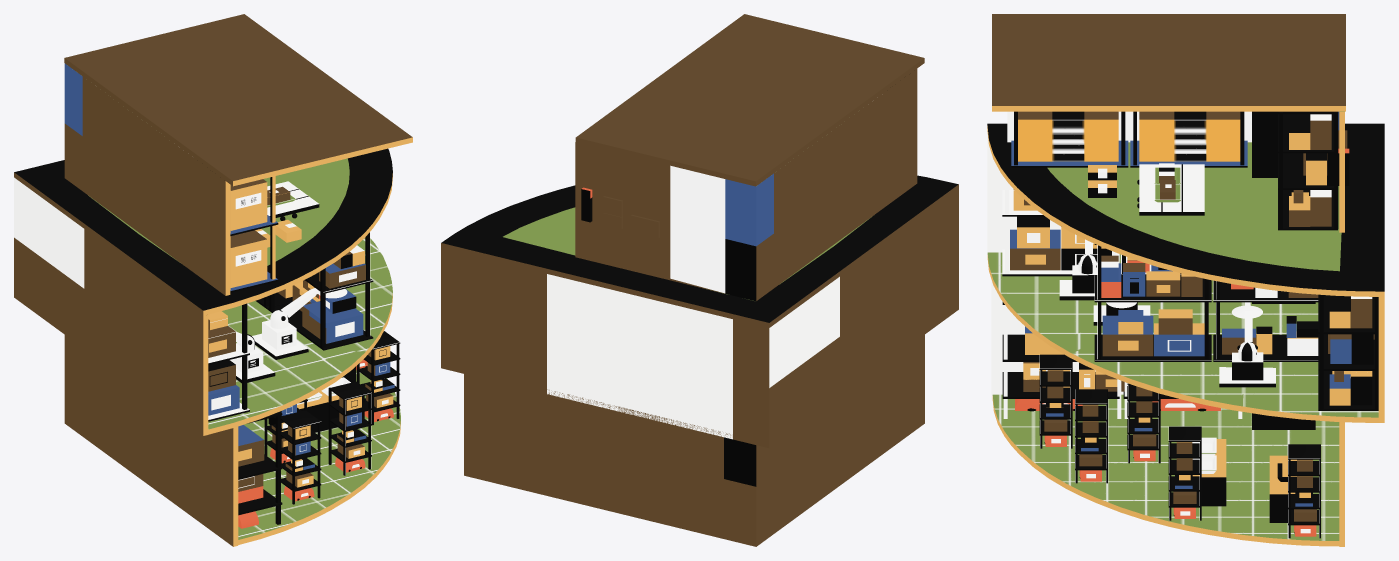
The picture shows the model from 3 angles, left to right: view 1: azimuth 30°, elevation 25°; view 2: azimuth 150°, elevation 25°; view 3: azimuth 270°, elevation 25°; orthographic projection. The views are drawn at different scales.
Parts seen in each view (by area): view 1: 仓库, 箱子, 两层柜子_5, 机器人, 黑柜子_6, 桌子, 黑柜子_11, 黑柜子_2, 立方体_5_2, 黑柜子_7, 立方体_5, 两层柜子 (+2 smaller); view 2: 仓库, 箱子; view 3: 仓库, 箱子, 立方体_5_5, 立方体_5_2, 桌子, 黑柜子_4, 黑柜子_1, 两层柜子_5, 机器人_1, 两层柜子_2, 黑柜子_2, 黑柜子_11 (+11 smaller).
Part boxes in pixels (x1,y1,x2,y2): 仓库: (14,14,412,546); 箱子: (208,245,394,503); 两层柜子_5: (267,232,373,350); 机器人: (252,288,347,359); 黑柜子_6: (328,381,371,475); 桌子: (267,181,364,432); 黑柜子_11: (281,410,321,504); 黑柜子_2: (238,411,282,524); 立方体_5_2: (230,230,267,287); 黑柜子_7: (357,331,400,425); 立方体_5: (230,179,267,230); 两层柜子: (230,176,278,292); 仓库: (441,14,958,546); 箱子: (581,187,659,238); 仓库: (987,14,1384,546); 箱子: (1010,114,1374,521); 立方体_5_5: (1139,111,1240,161); 立方体_5_2: (1018,111,1118,161); 桌子: (1137,164,1296,522); 黑柜子_4: (1278,111,1338,230); 黑柜子_1: (1318,294,1378,410); 两层柜子_5: (1094,244,1211,361); 机器人_1: (1219,302,1275,387); 两层柜子_2: (1213,280,1318,361); 黑柜子_2: (1002,302,1121,418); 黑柜子_11: (1039,354,1072,448).
Bounding box in the file's own units: 1000 × 1065 × 1000.
